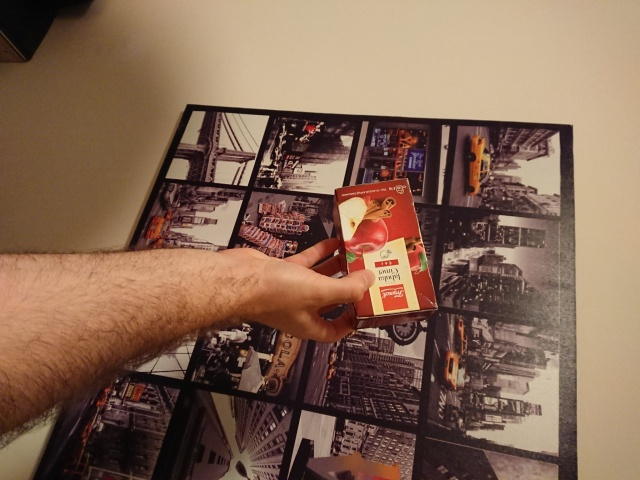Franck Apple Cinnamon Tea 60g: (329, 175, 441, 332)
